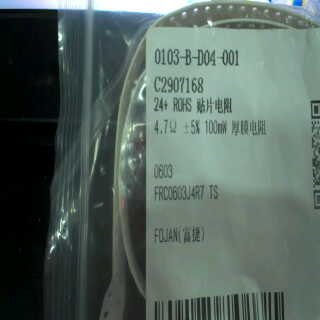4.7R: (153, 116, 181, 138)
